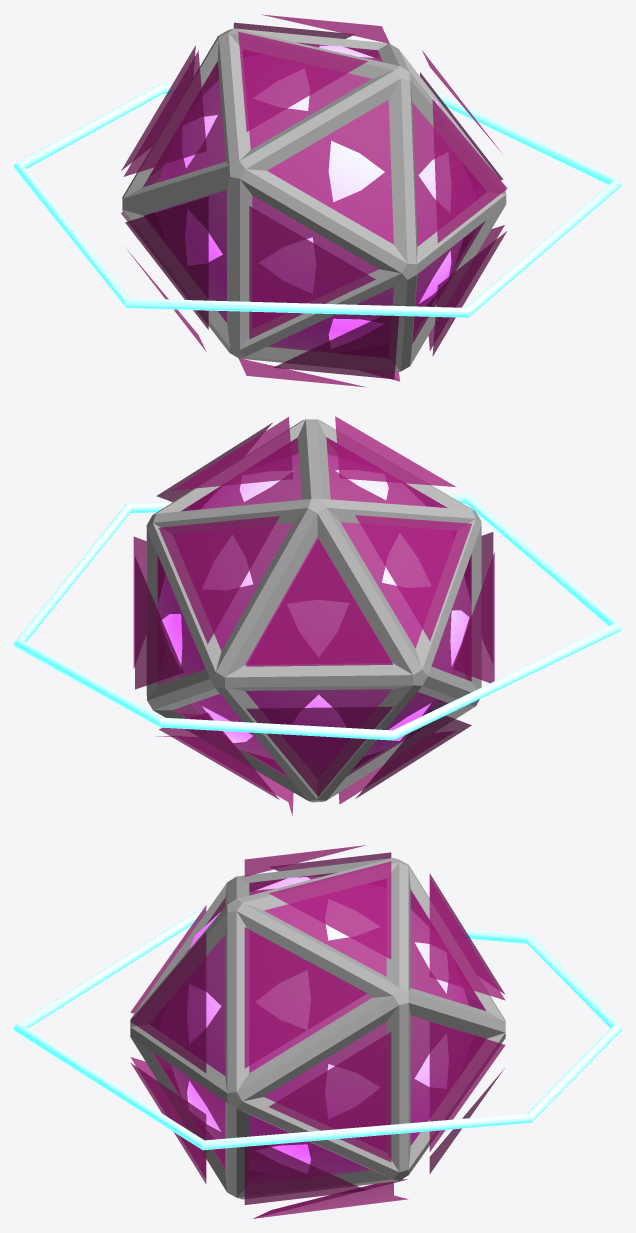
Rendered from testeract_fbx.glb.
The picture shows the model from 3 angles, top to bottom: view 1: azimuth 30°, elevation 25°; view 2: azimuth 150°, elevation 25°; view 3: azimuth 270°, elevation 25°; orthographic projection. The views are drawn at different scales.
Visible parts, largest first — view 1: polySurface1, pPlatonic2, sweep1, polySurface19, polySurface13, polySurface17, polySurface14, polySurface18, polySurface8, polySurface20, polySurface21, polySurface3 (+4 smaller); view 2: polySurface1, pPlatonic2, sweep1, polySurface3, polySurface2, polySurface8, polySurface4, polySurface7, polySurface13, polySurface6, polySurface14, polySurface5 (+6 smaller); view 3: polySurface1, pPlatonic2, sweep1, polySurface12, polySurface11, polySurface7, polySurface17, polySurface6, polySurface2, polySurface16, polySurface21, polySurface10 (+6 smaller).
Part boxes in pixels (x1,y1,x2,y2): polySurface1: [122, 28, 506, 373]; pPlatonic2: [155, 45, 462, 350]; sweep1: [14, 83, 621, 317]; polySurface19: [249, 195, 378, 339]; polySurface13: [238, 31, 371, 149]; polySurface17: [412, 99, 507, 246]; polySurface14: [125, 190, 226, 329]; polySurface18: [267, 100, 393, 244]; polySurface8: [123, 50, 225, 187]; polySurface20: [268, 287, 398, 379]; polySurface21: [412, 221, 506, 356]; polySurface3: [121, 45, 214, 176]; polySurface1: [146, 419, 481, 802]; pPlatonic2: [158, 454, 471, 758]; sweep1: [14, 494, 621, 740]; polySurface3: [245, 537, 393, 666]; polySurface2: [159, 516, 293, 650]; polySurface8: [340, 515, 471, 648]; polySurface4: [245, 689, 392, 796]; polySurface7: [172, 417, 301, 511]; polySurface13: [326, 416, 455, 507]; polySurface6: [135, 555, 205, 689]; polySurface14: [431, 552, 494, 683]; polySurface5: [159, 694, 289, 799]; polySurface1: [130, 858, 505, 1199]; pPlatonic2: [172, 876, 468, 1174]; sweep1: [14, 907, 621, 1150]; polySurface12: [244, 927, 371, 1072]; polySurface11: [264, 1022, 391, 1161]; polySurface7: [264, 861, 391, 976]; polySurface17: [130, 932, 225, 1075]; polySurface6: [410, 1015, 505, 1151]; polySurface2: [410, 879, 505, 1010]; polySurface16: [244, 1114, 371, 1204]; polySurface21: [131, 1050, 225, 1183]; polySurface10: [252, 1179, 408, 1218].
Size of the model in its own units: 0.0288 by 0.0184 by 0.0312.
